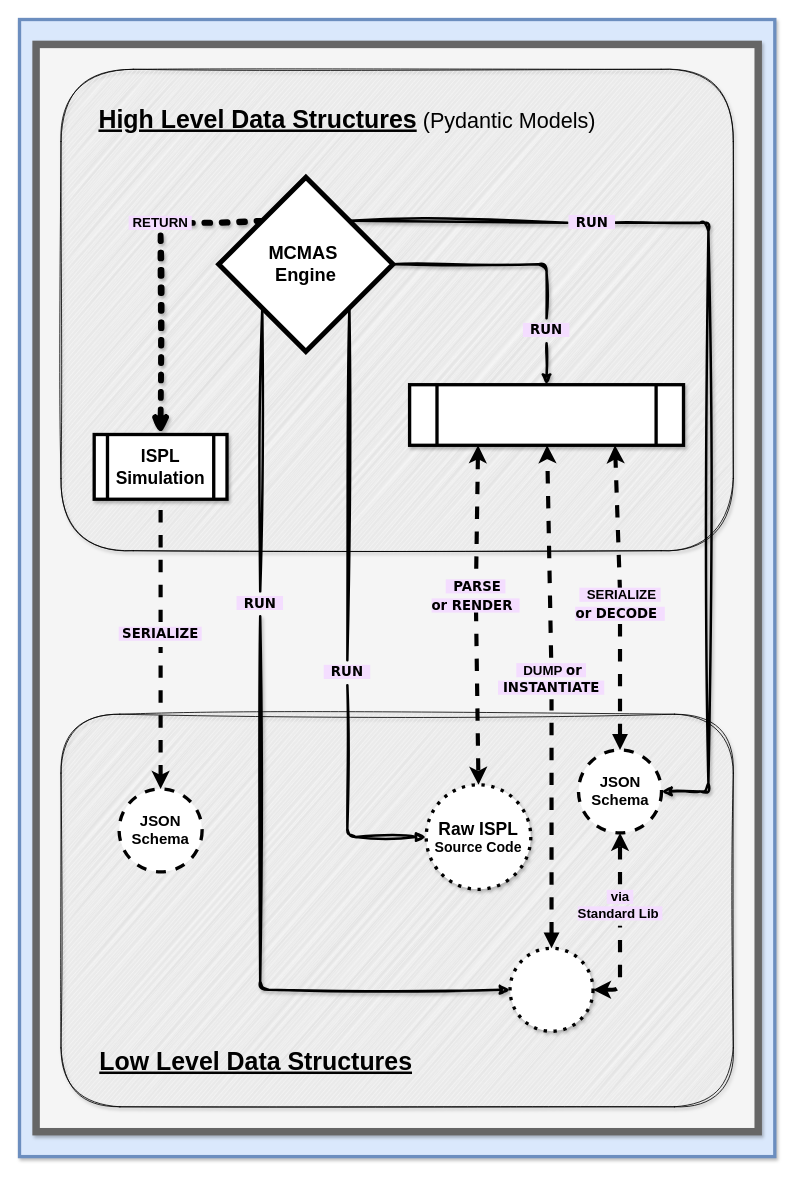
Image size: 795x1178. Some labels were removed from this diagram. Each missing label, with the centre of its shape:
"ISPL Specification" belongs at (547,415).
"Python Dictionary" belongs at (552,990).
